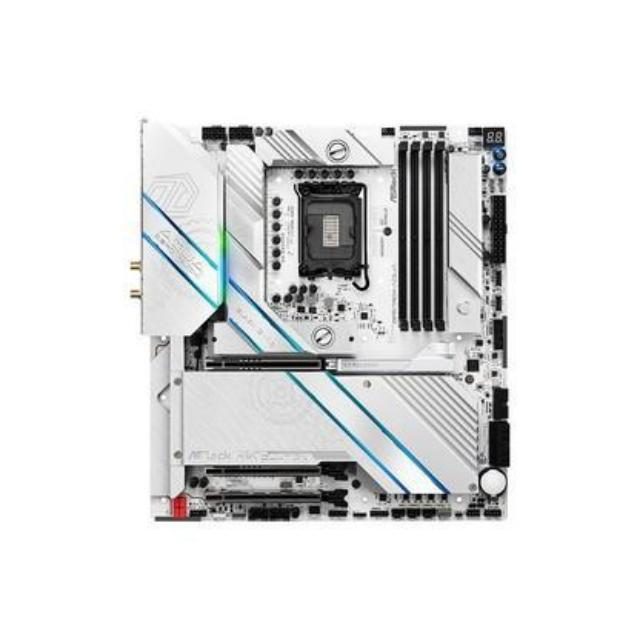Mainboard: (131, 113, 517, 535)
